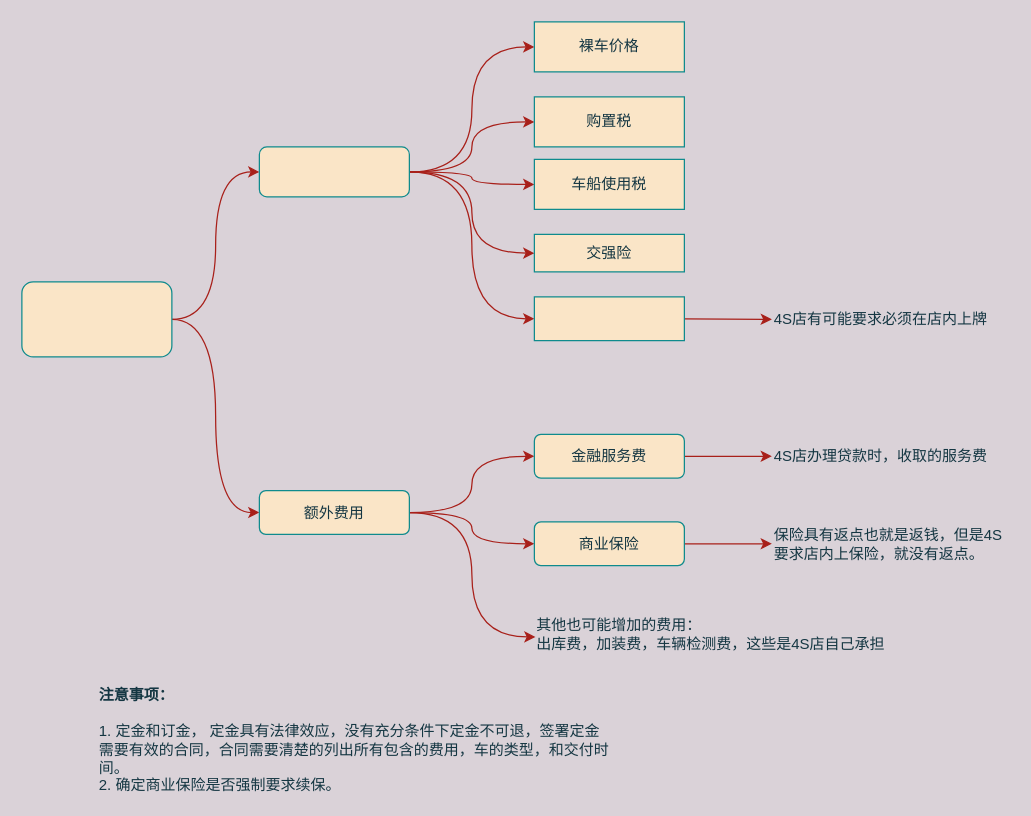
Some shapes in this 1031 by 816 pixel diagram are drawn without their labels. Each missing label, with the centre of its shape:
上牌费用: the point at 608,318
必交费用: the point at 333,171
购车费用: the point at 96,319
